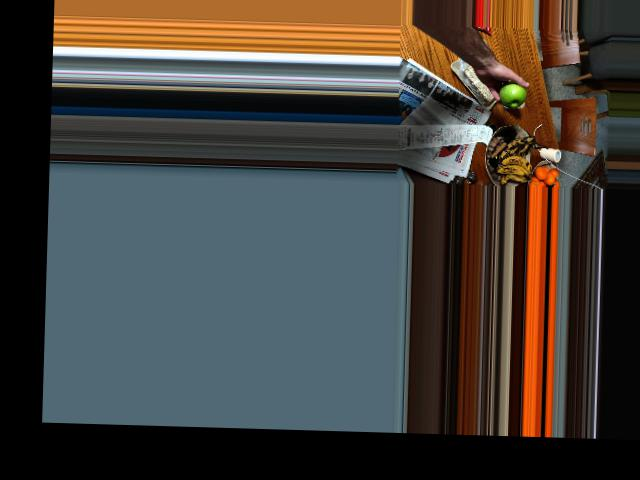apple: (495, 76, 527, 109)
